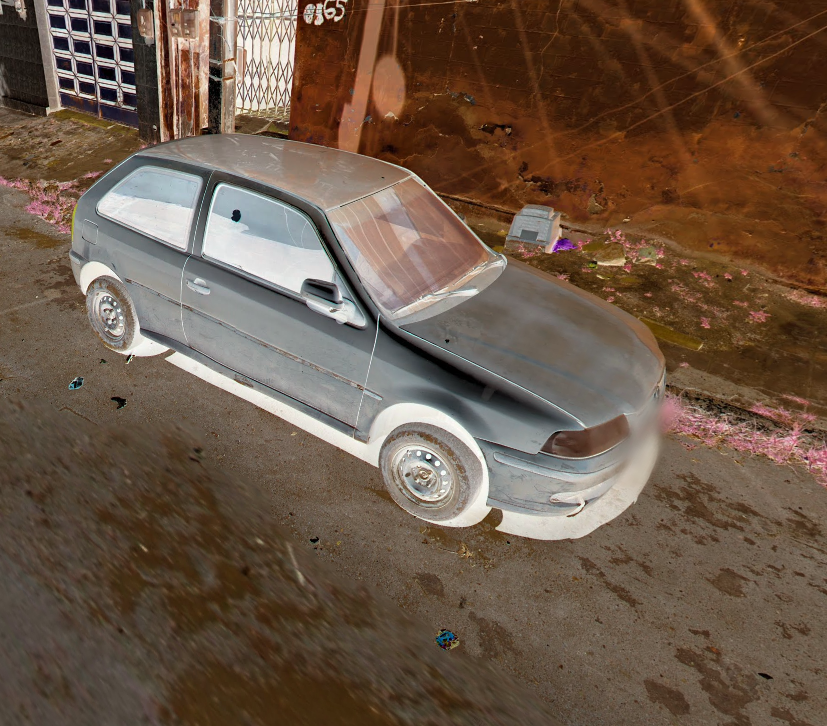car: (63, 127, 675, 546)
